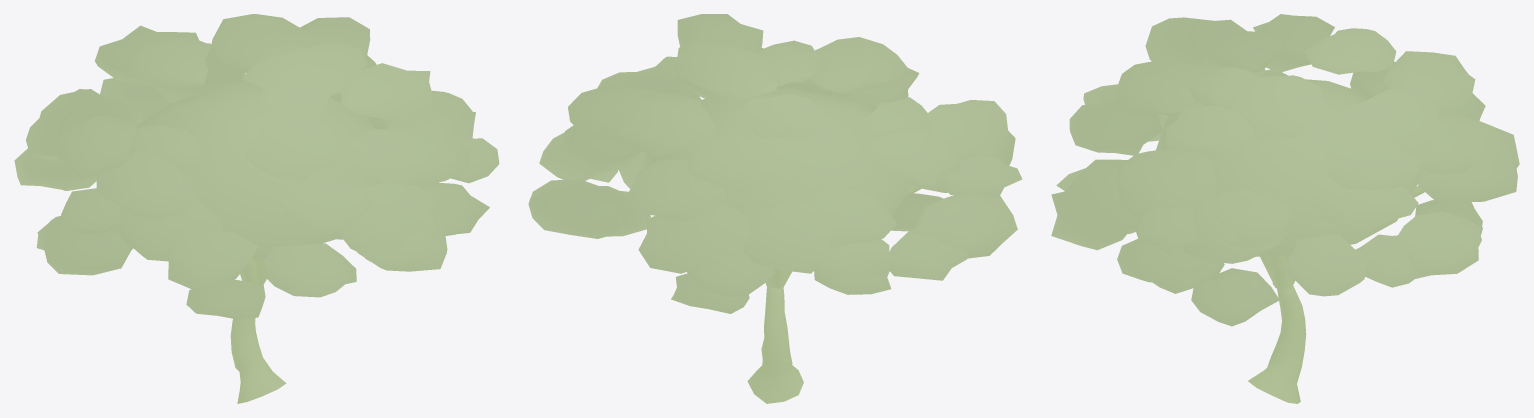
File: Blender_Mesquite_2.glb
3 renders of one model, left to right at view 1: azimuth 30°, elevation 25°; view 2: azimuth 150°, elevation 25°; view 3: azimuth 270°, elevation 25°, orthographic. The views are drawn at different scales.
Visible parts, largest first — view 1: Blender_Mesquite_2; view 2: Blender_Mesquite_2; view 3: Blender_Mesquite_2.
Part boxes in pixels (x1,y1,x2,y2): Blender_Mesquite_2: (14,14,499,403); Blender_Mesquite_2: (528,14,1022,403); Blender_Mesquite_2: (1051,14,1519,403).
Size of the model in its own units: 9.13 by 6.75 by 8.34.
